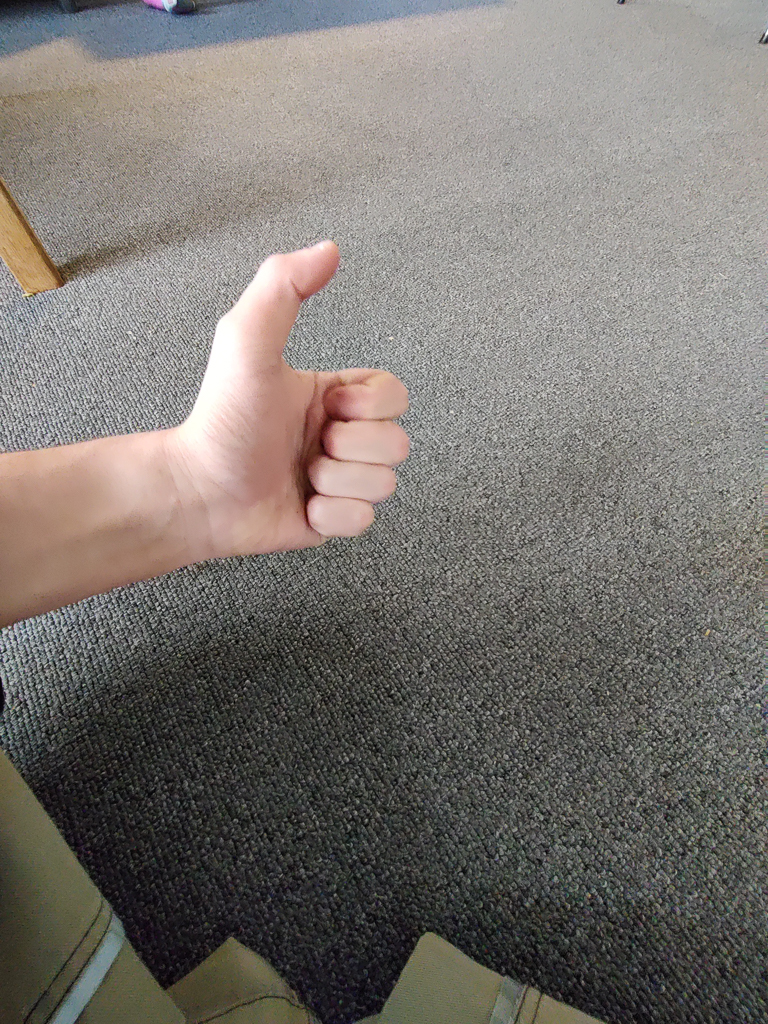Humanoid: (4, 219, 615, 1024)
